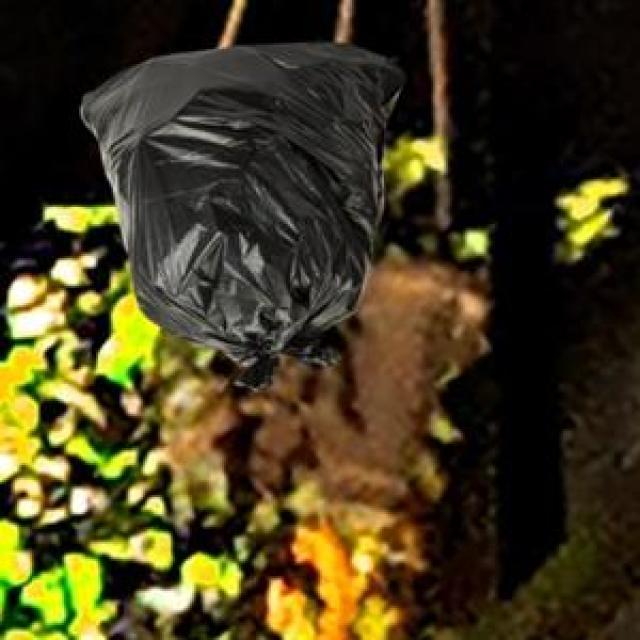Vinyl: (79, 41, 390, 372)
